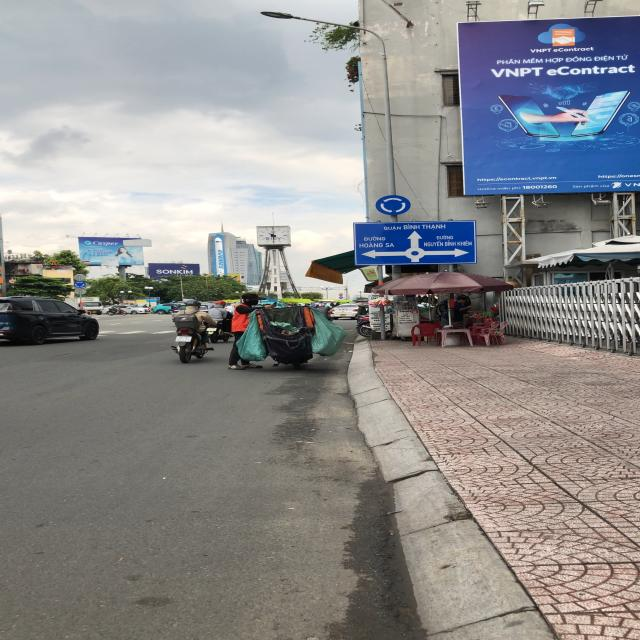Bien bao noi giao nhau chay theo vong xuyen: (374, 193, 414, 217), (72, 280, 88, 288)
